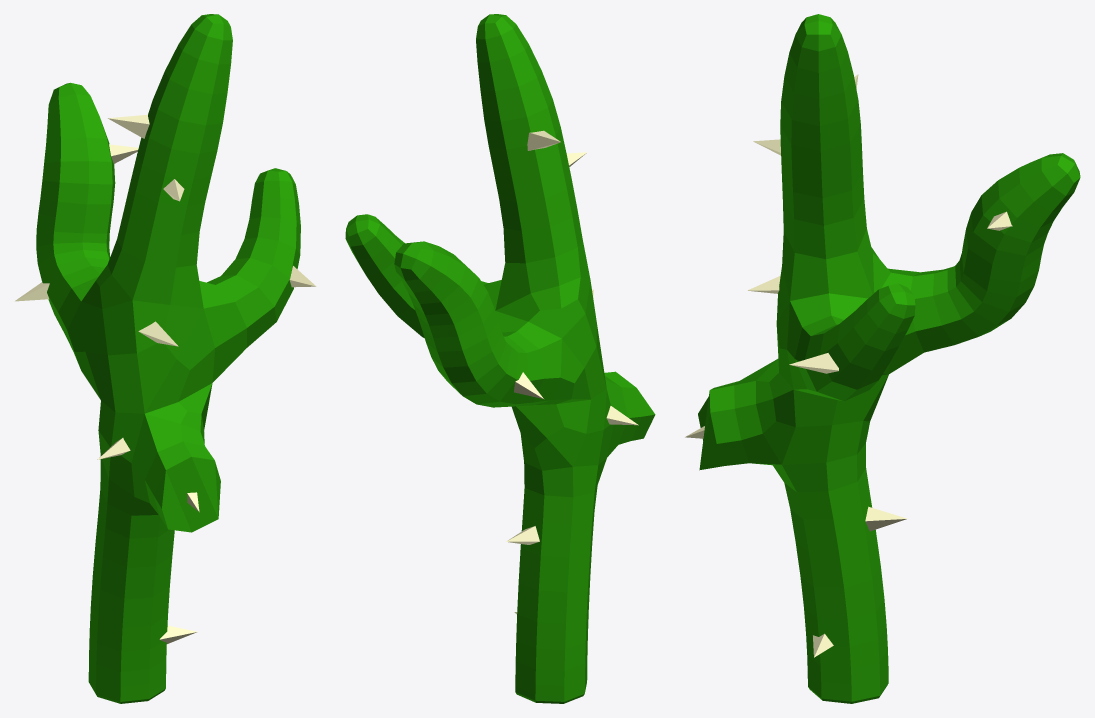
The model's file is kaktus.fbx.
3 views of the same model, side by side, from view 1: azimuth 30°, elevation 25°; view 2: azimuth 150°, elevation 25°; view 3: azimuth 270°, elevation 25° (orthographic). The views are drawn at different scales.
Parts seen in each view (by area): view 1: Plane; view 2: Plane; view 3: Plane.
Boxes of the visible parts, box(x1,y1,x2,y2) form: Plane: box(15, 14, 316, 703); Plane: box(345, 14, 655, 703); Plane: box(685, 14, 1080, 703).
Bounding box in the file's own units: 71.32 × 183 × 92.77.
